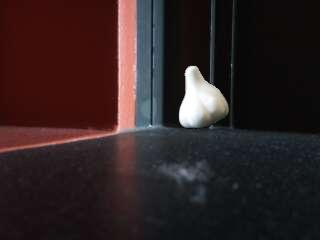Garlic: (179, 64, 228, 131)
